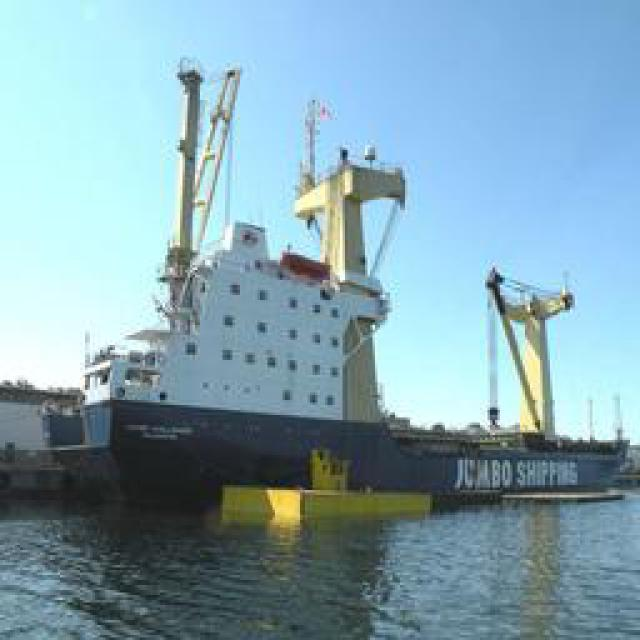Ship: (40, 66, 632, 511)
